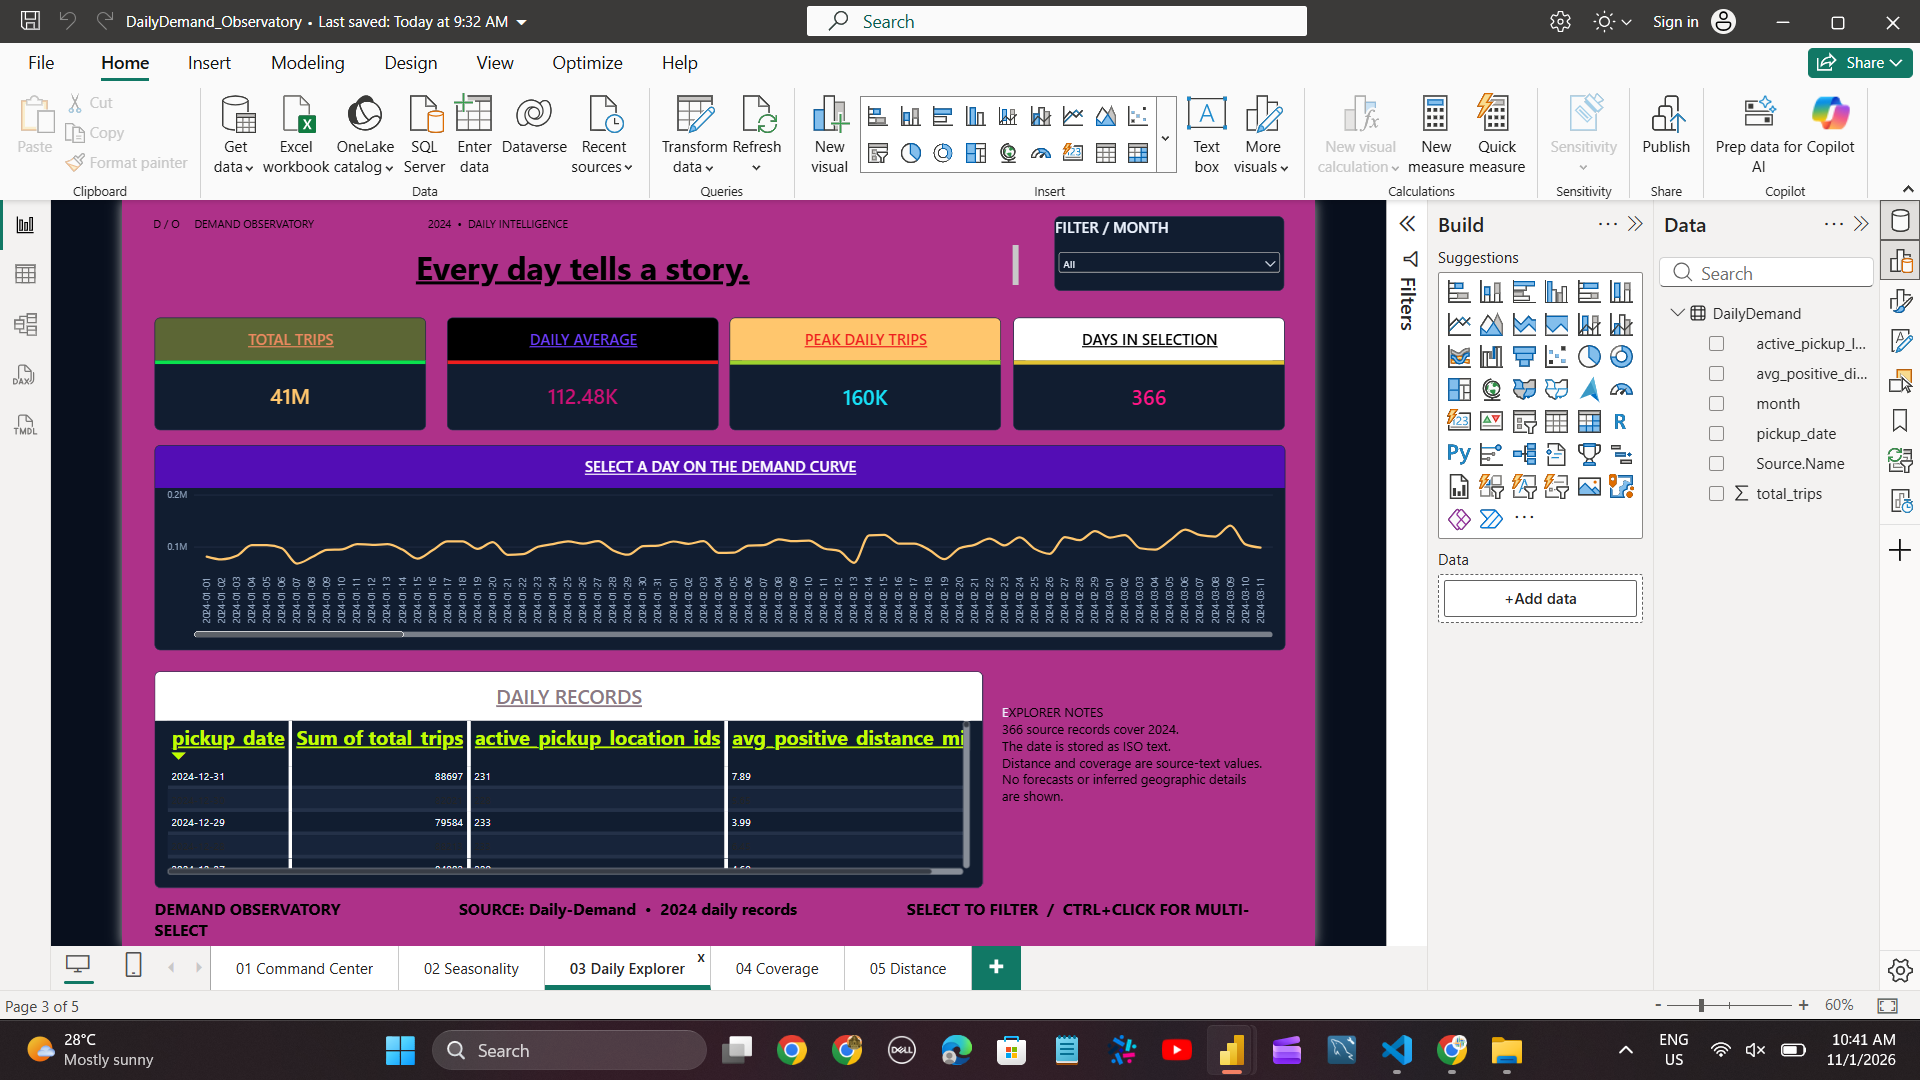

The page's visual inventory and layout, read from the dashboard file:
{"tool":"powerbi","page":{"name":"03  Daily Explorer","canvas":[1600,1000],"ordinal":2},"visuals":[{"type":"textbox","box":[42,22,900,28],"z":0},{"type":"textbox","box":[42,60,1160,55],"z":1000},{"type":"slicer","title":"FILTER / MONTH","fields":{"Values":["DailyDemand.month"]},"box":[1249.8,21.6,308,100],"z":4000},{"type":"card","title":"TOTAL TRIPS","fields":{"Values":["Sum(DailyDemand.total_trips)"]},"box":[43.3,156.9,364.3,151.5],"z":5000},{"type":"card","title":"DAILY AVERAGE","fields":{"Values":["Avg(DailyDemand.total_trips)"]},"box":[436.4,156.9,364.3,151.5],"z":6000},{"type":"card","title":"PEAK DAILY TRIPS","fields":{"Values":["Max(DailyDemand.total_trips)"]},"box":[815.2,156.9,364.3,151.5],"z":7000},{"type":"card","title":"DAYS IN SELECTION","fields":{"Values":["CountNonNull(DailyDemand.pickup_date)"]},"box":[1193.9,156.9,364.3,151.5],"z":8000},{"type":"lineChart","title":"SELECT A DAY ON THE DEMAND CURVE","fields":{"Category":["DailyDemand.pickup_date"],"Y":["Sum(DailyDemand.total_trips)"]},"box":[43.3,328.2,1516,275],"z":9000},{"type":"tableEx","title":" DAILY RECORDS","fields":{"Values":["DailyDemand.pickup_date","Sum(DailyDemand.total_trips)","DailyDemand.active_pickup_location_ids","DailyDemand.avg_positive_distance_miles"]},"box":[43.3,631.2,1110,290],"z":10000},{"type":"textbox","box":[1180,675,350,245],"z":11000},{"type":"textbox","box":[43.3,934.2,1480.6,64.9],"z":12000}]}

Visuals, with their boxes on the page's 1600x1000 design canvas (x1, y1, x2, y2). These are canvas units, not pixel positions in the 1920x1080 screenshot, which may show the page scaled, cropped or inside an application window:
textbox: pyautogui.locateOnScreen(42, 22, 942, 50)
textbox: pyautogui.locateOnScreen(42, 60, 1202, 115)
"FILTER / MONTH" slicer: pyautogui.locateOnScreen(1250, 22, 1558, 122)
"TOTAL TRIPS" card: pyautogui.locateOnScreen(43, 157, 408, 308)
"DAILY AVERAGE" card: pyautogui.locateOnScreen(436, 157, 801, 308)
"PEAK DAILY TRIPS" card: pyautogui.locateOnScreen(815, 157, 1180, 308)
"DAYS IN SELECTION" card: pyautogui.locateOnScreen(1194, 157, 1558, 308)
"SELECT A DAY ON THE DEMAND CURVE" lineChart: pyautogui.locateOnScreen(43, 328, 1559, 603)
" DAILY RECORDS" tableEx: pyautogui.locateOnScreen(43, 631, 1153, 921)
textbox: pyautogui.locateOnScreen(1180, 675, 1530, 920)
textbox: pyautogui.locateOnScreen(43, 934, 1524, 999)
